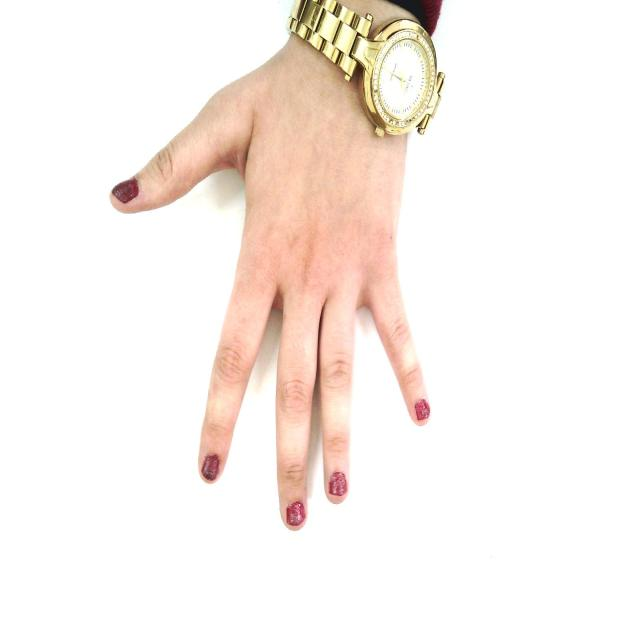Nail: (201, 453, 223, 485), (112, 179, 138, 203), (286, 501, 306, 530), (329, 471, 348, 498), (414, 399, 431, 421)
